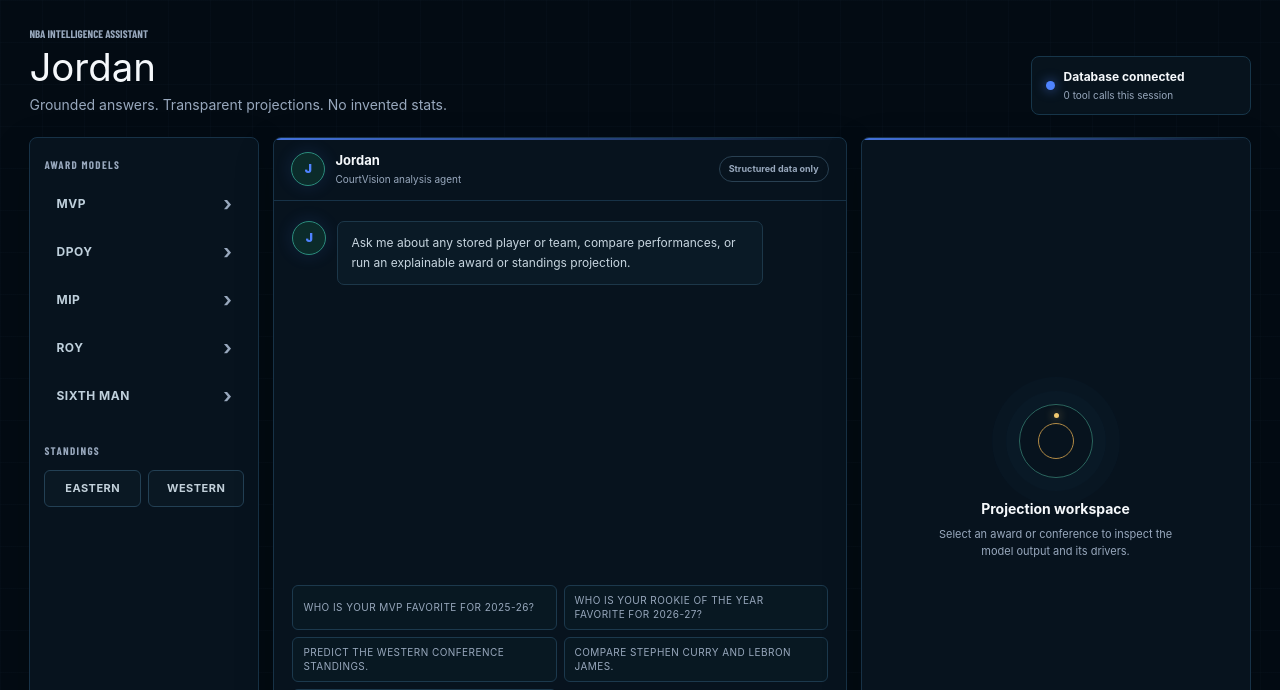
Test case: AssistantDashboard › loads and displays an explainable award projection
Click the button "MVP ›" at {"x": 144, "y": 204}, box left=44, top=183, right=244, bottom=225
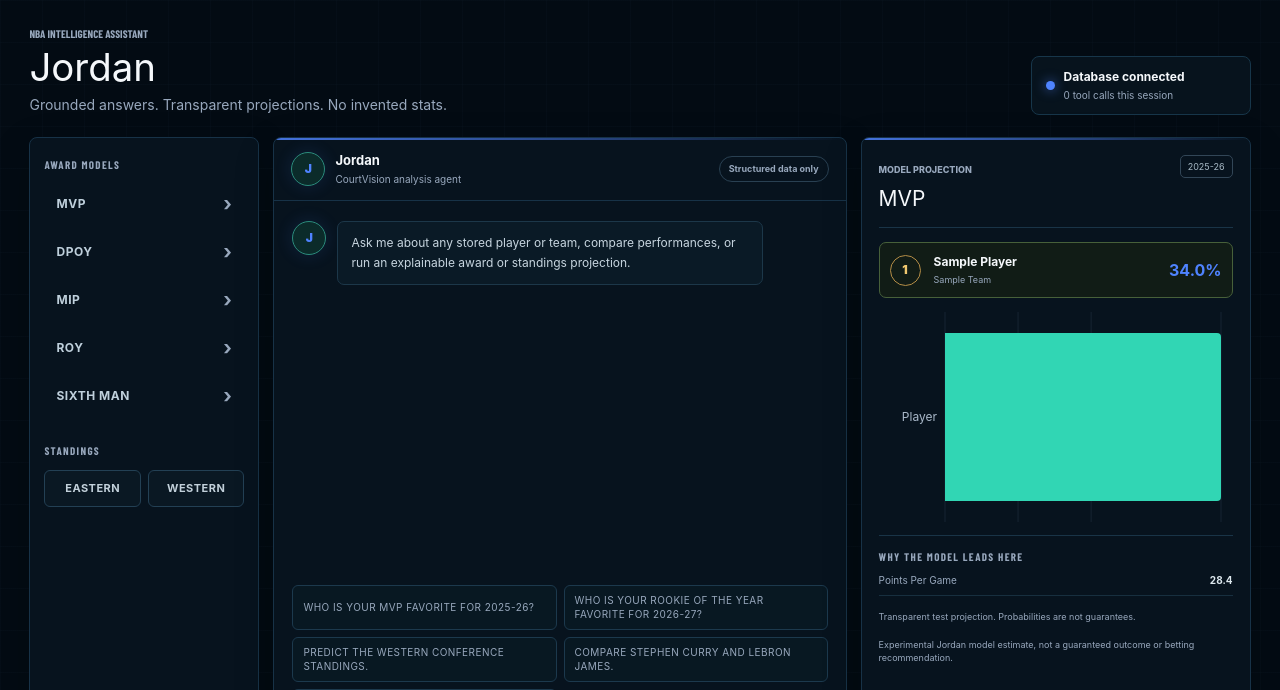
Result: the text "Sample Player" is shown at left=934, top=254, right=1017, bottom=269
Result: the text "34.0%" is shown at left=1169, top=258, right=1222, bottom=282
Result: the text "Why the model leads here" is shown at left=879, top=550, right=1024, bottom=563
